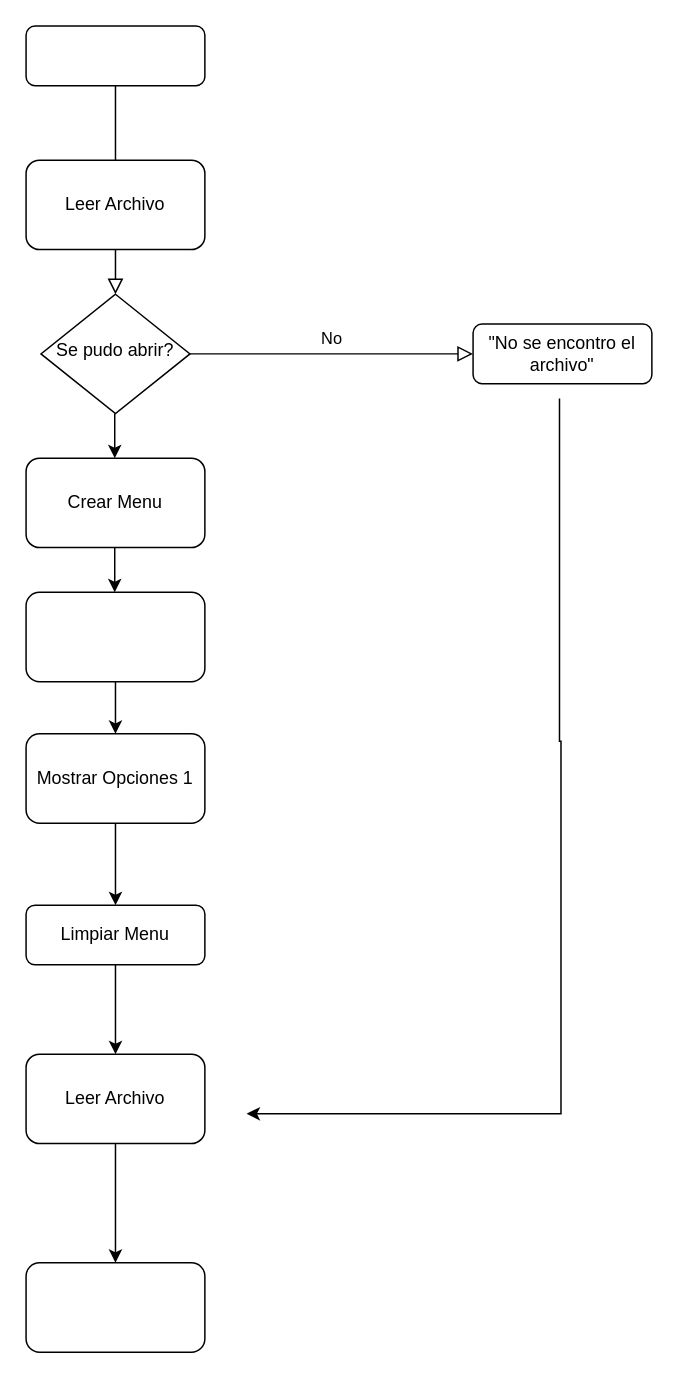
This 678x1378 diagram has some shape labels left out. Here are the shapes that lost their labels. From the top down, the box of each, then its label:
(25, 25, 205, 86): INICIO
(25, 591, 205, 682): Mostrar Titutlo 1
(25, 1261, 205, 1352): FIN
